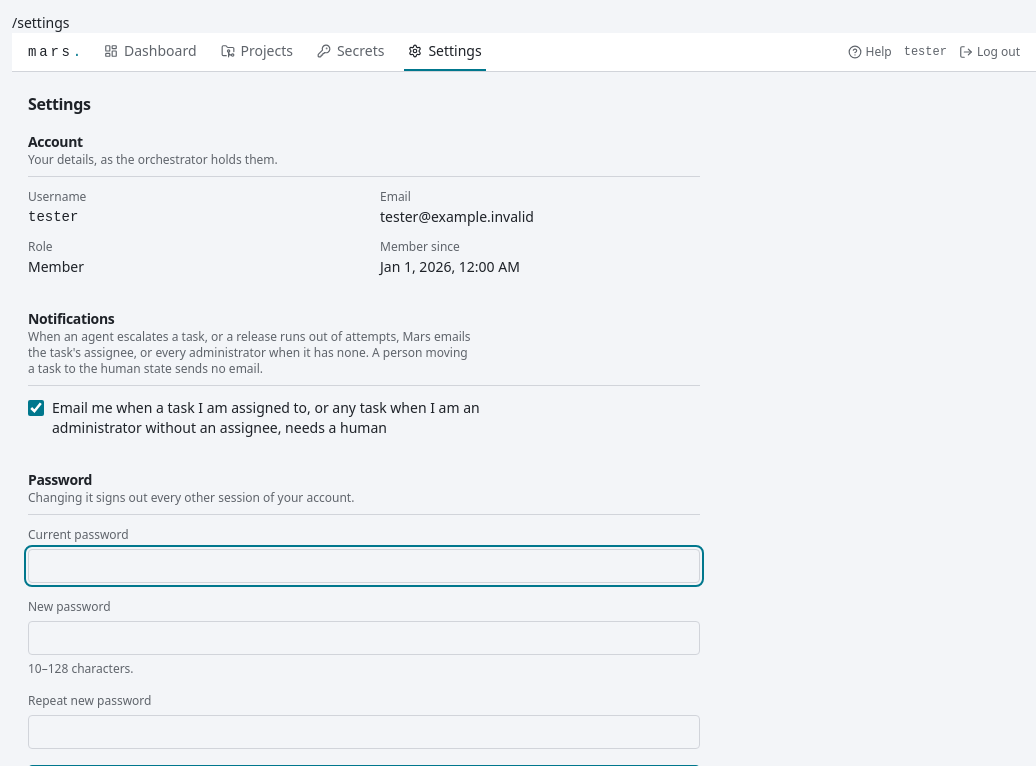
SettingsPage › opts out through PATCH /users/me and flips the checkbox at once
Click the checkbox at [36, 408], box [28, 400, 44, 416]
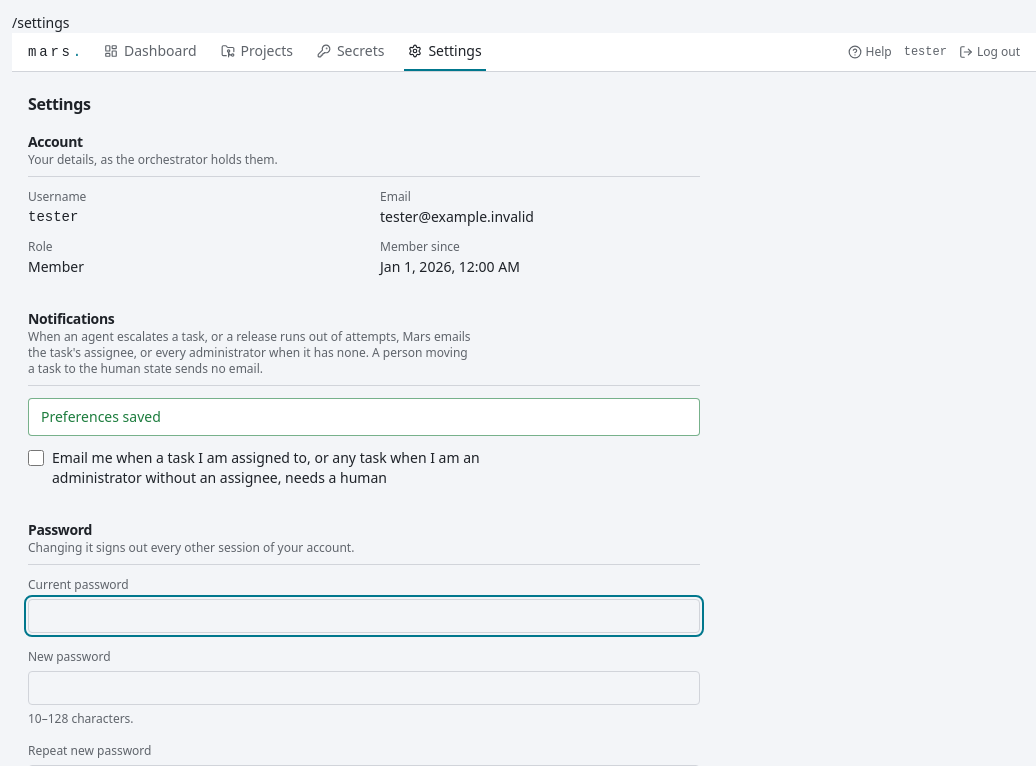
Check: the checkbox is not checked, box [28, 450, 44, 466]
Check: the text "Preferences saved" is shown, box [41, 407, 161, 426]
